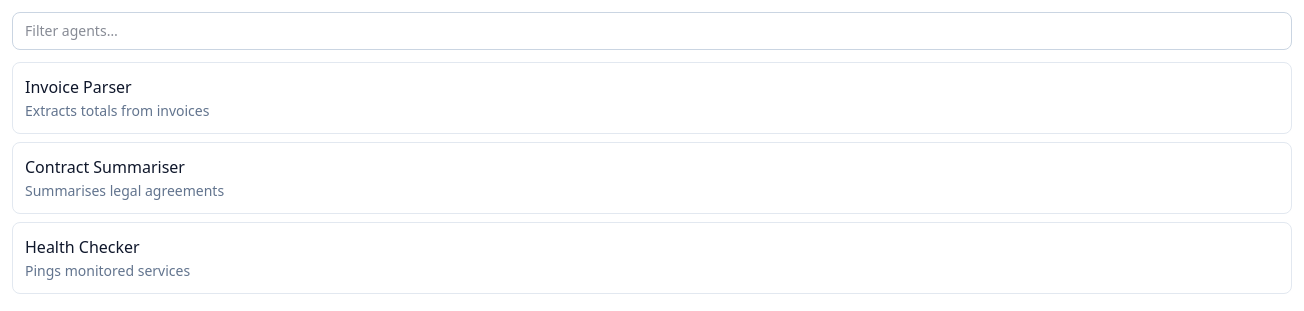
AgentList filtering › matches on description, not only name
Type "legal" into the search field labelled "Filter agents…" at (652, 31), box [12,12,1292,50]
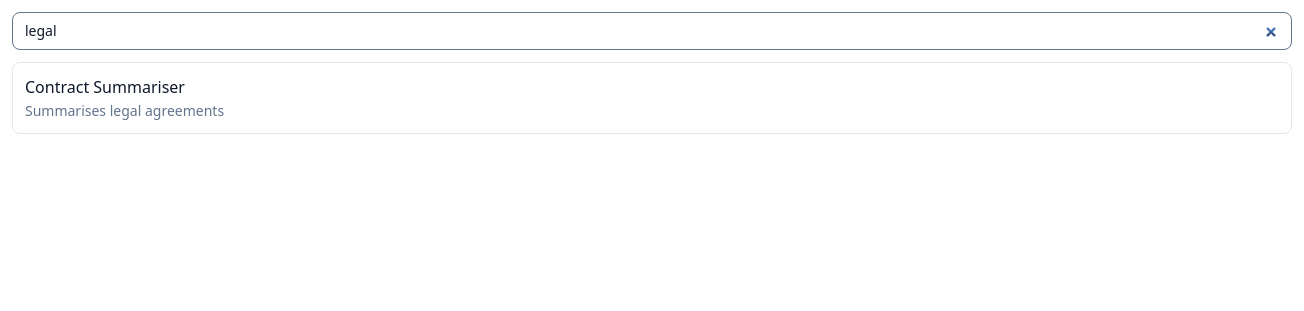
Expected: the text "Contract Summariser" is shown, [25,76,185,98]
Result: the link "Invoice Parser" is gone
